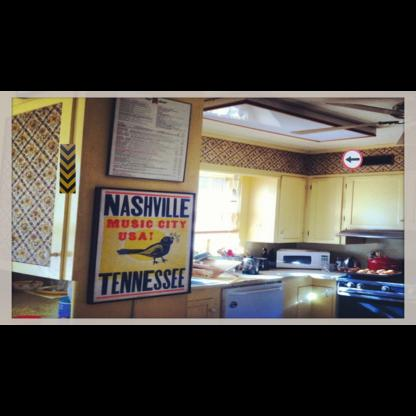O-MP: (60, 144, 75, 193)
R-24a: (342, 149, 362, 169)
